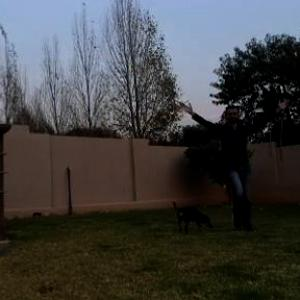takeoff: (172, 102, 281, 225)
